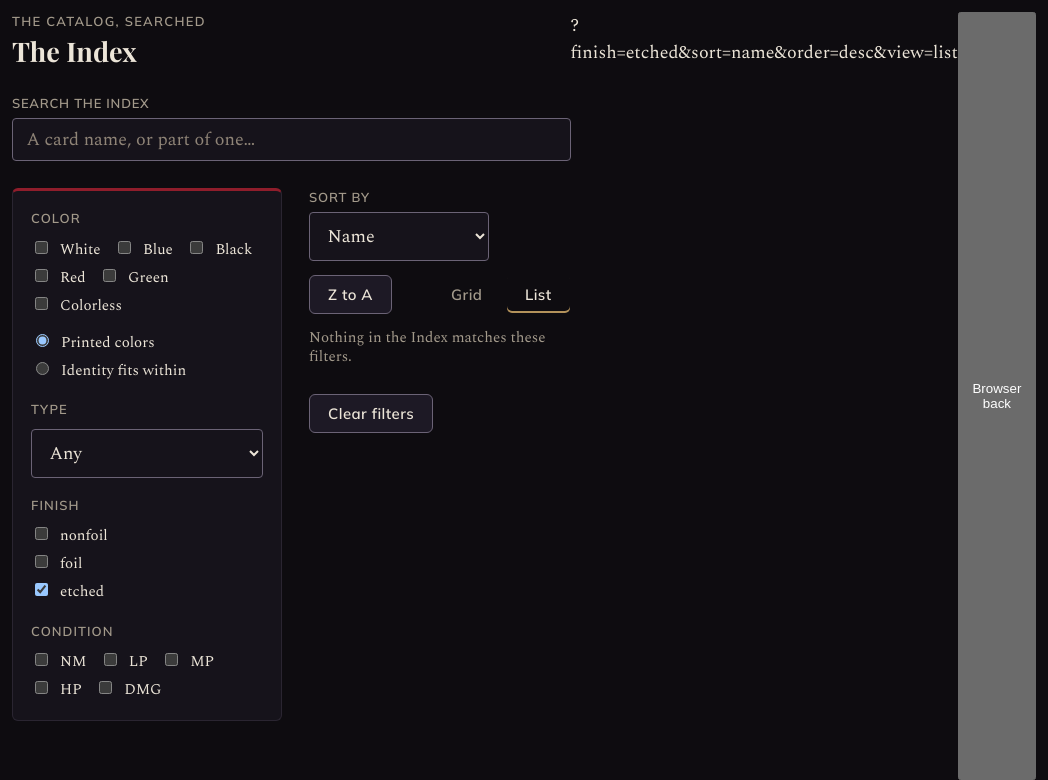
Test case: IndexPage › keeps the view, sort and order when the filters are cleared
Click the button "Clear filters" at (371, 414), box [309, 394, 433, 433]
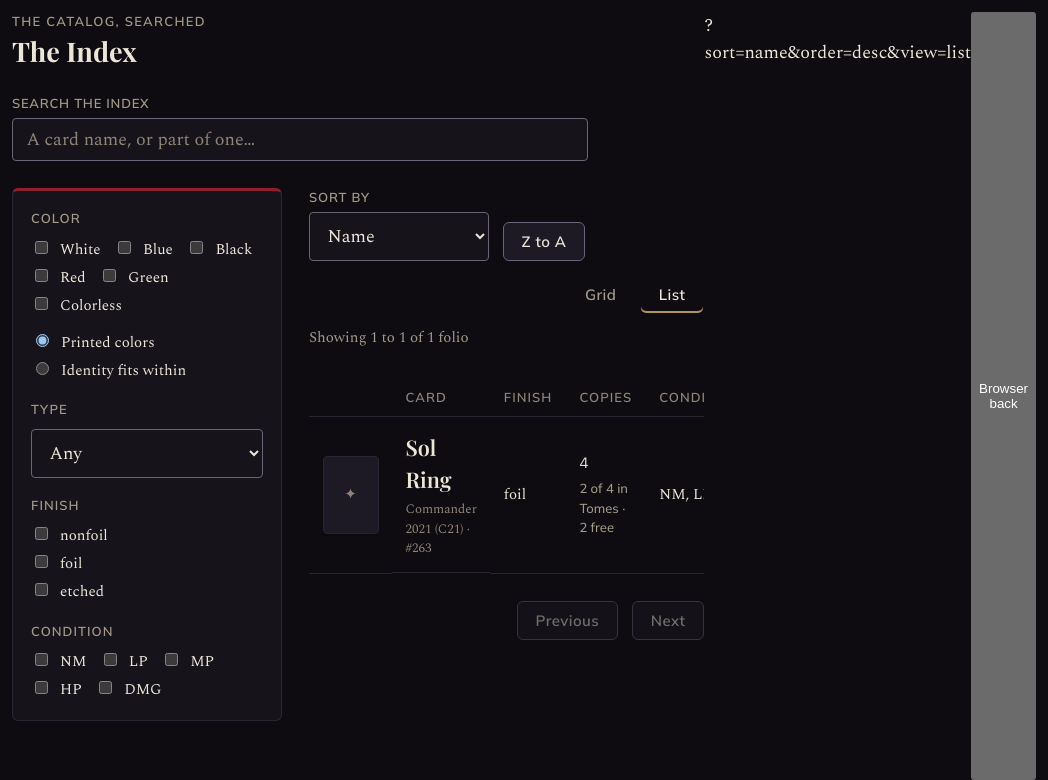
Result: the text named "Index URL" reads "?sort=name&order=desc&view=list" at [704, 12, 971, 66]
Result: the link "Sol Ring" is shown at [406, 433, 452, 493]
